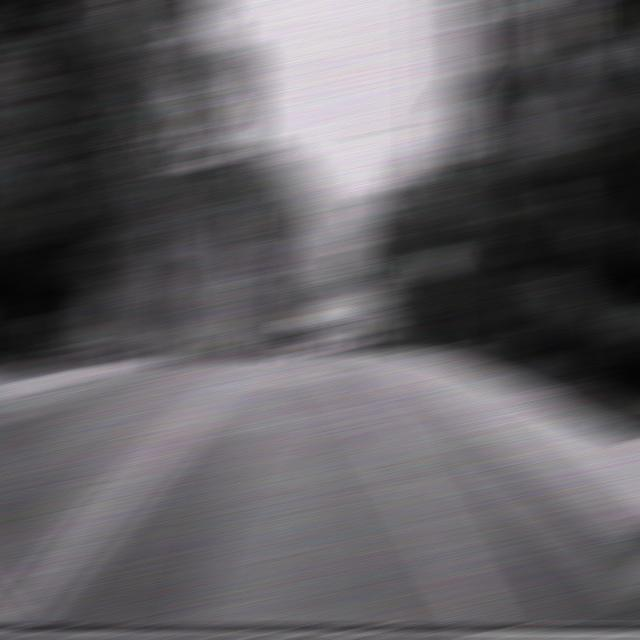pedestrianCrossing: (414, 244, 456, 282)
